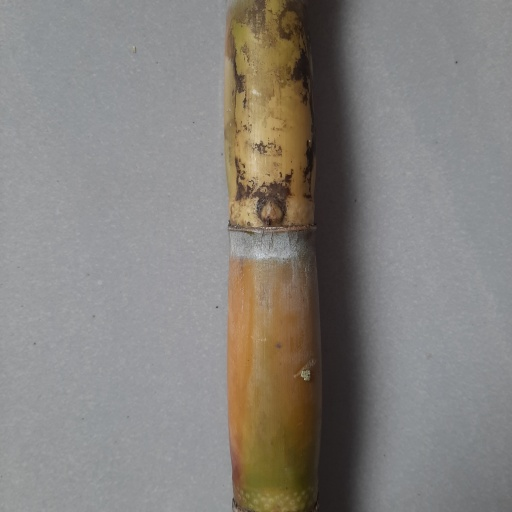Bud: (258, 197, 284, 225)
